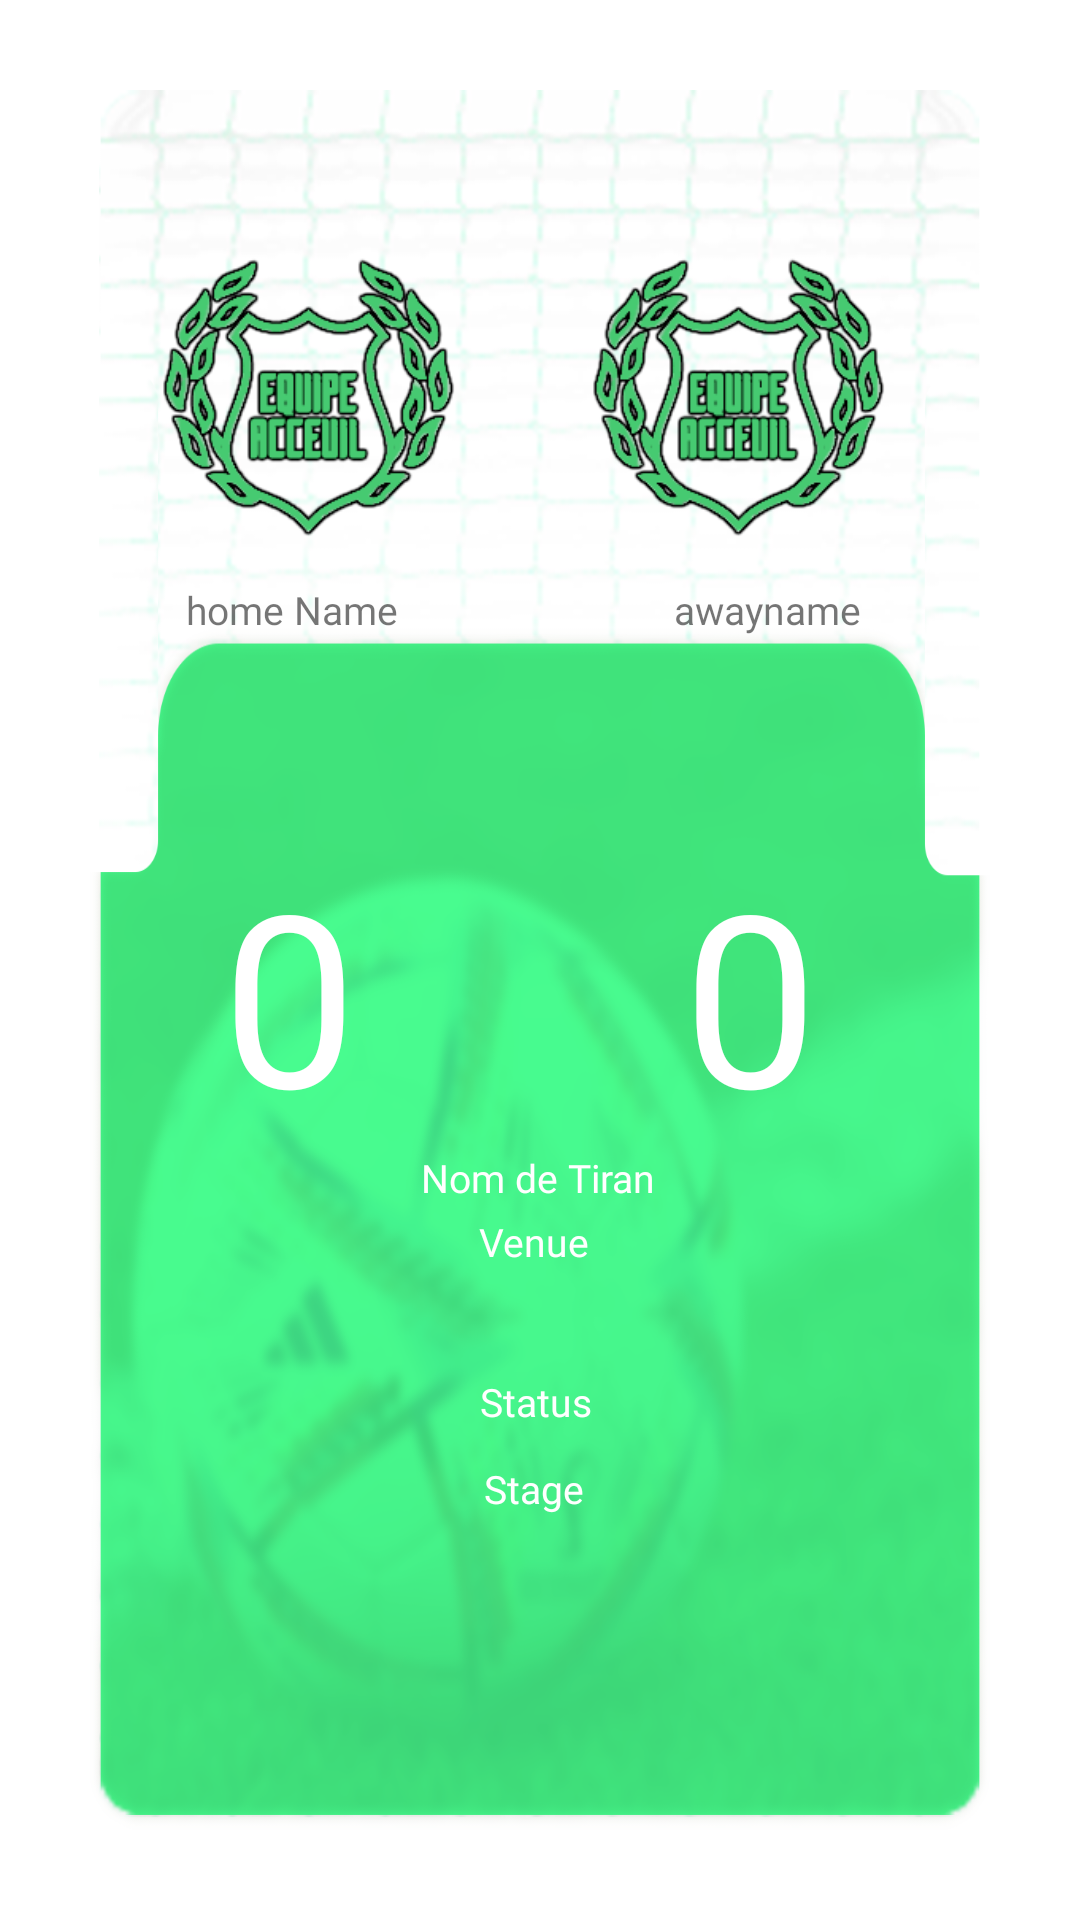

Locate icon controls on the screen. Image size 1080w x 1920h, boxes as (x1, y1, x2, y2).
homecrest: (157, 253, 457, 540), (590, 253, 884, 536)
